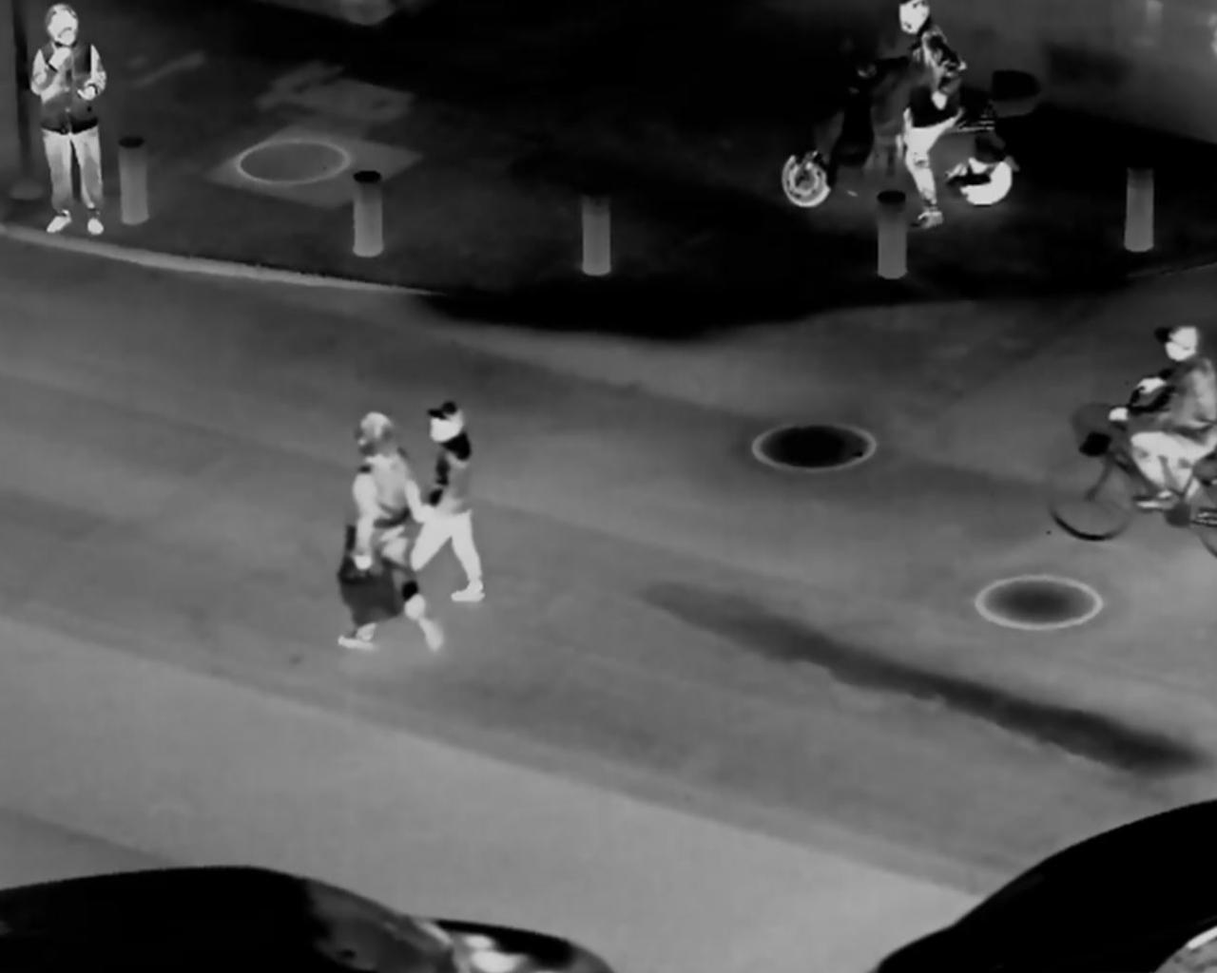person: (319, 388, 434, 666), (860, 4, 969, 246), (1109, 310, 1217, 525), (412, 403, 492, 622)
